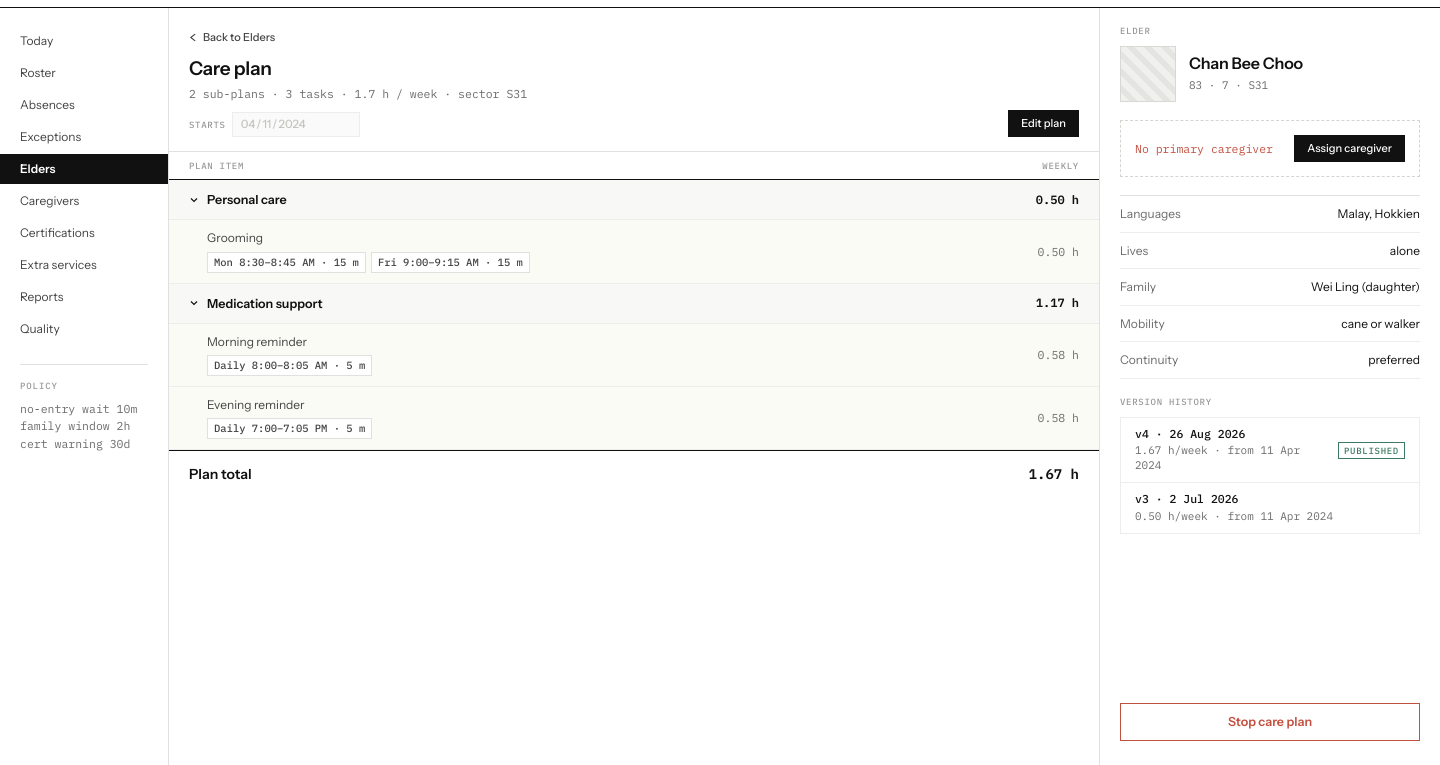
Test: holds publishing while a sub-plan or task is still being edited
Click the button "Edit plan" at (1044, 124), box [1008,110,1079,137]
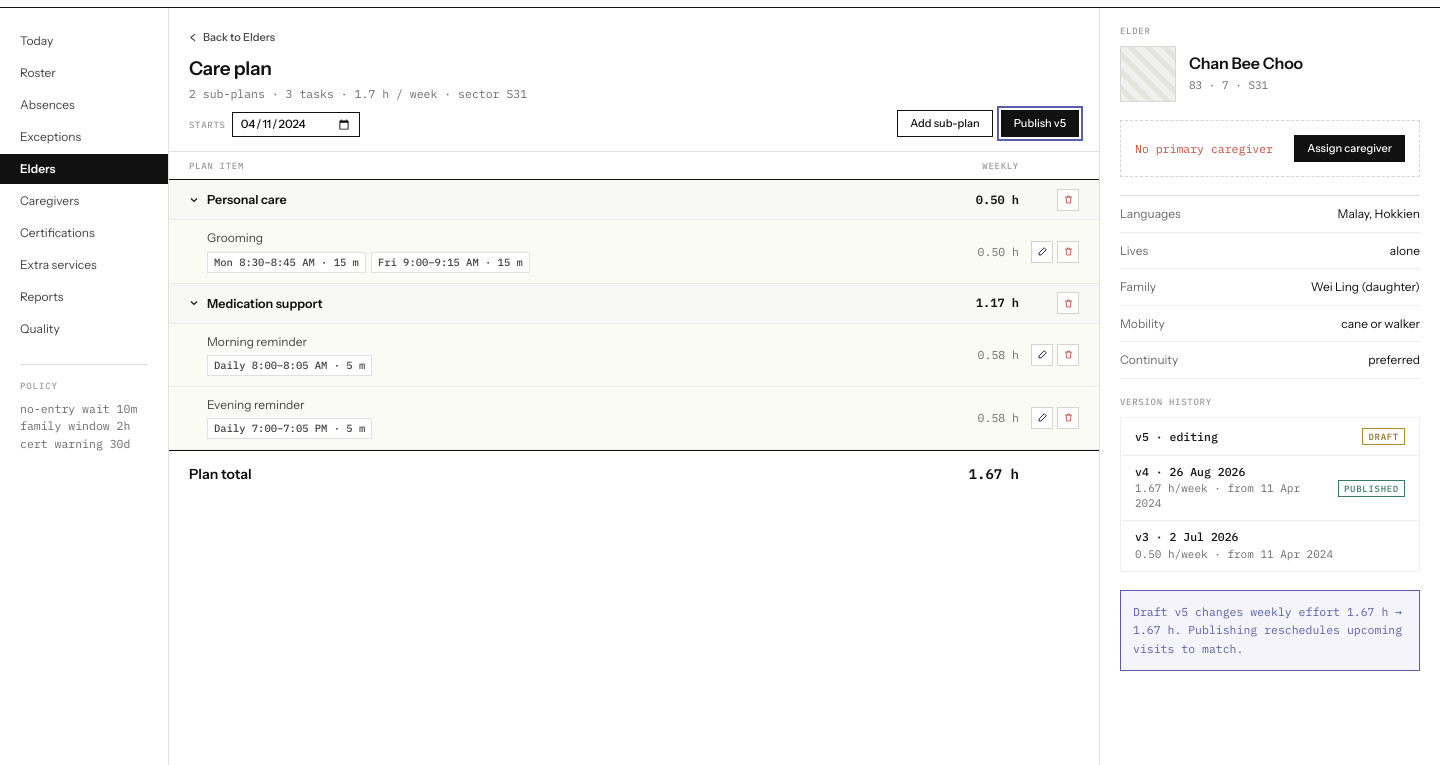
Expected: the button "Publish v5" is enabled, [1001,110,1079,137]
Click the button "Add sub-plan" at (945, 124), box [897,110,993,137]
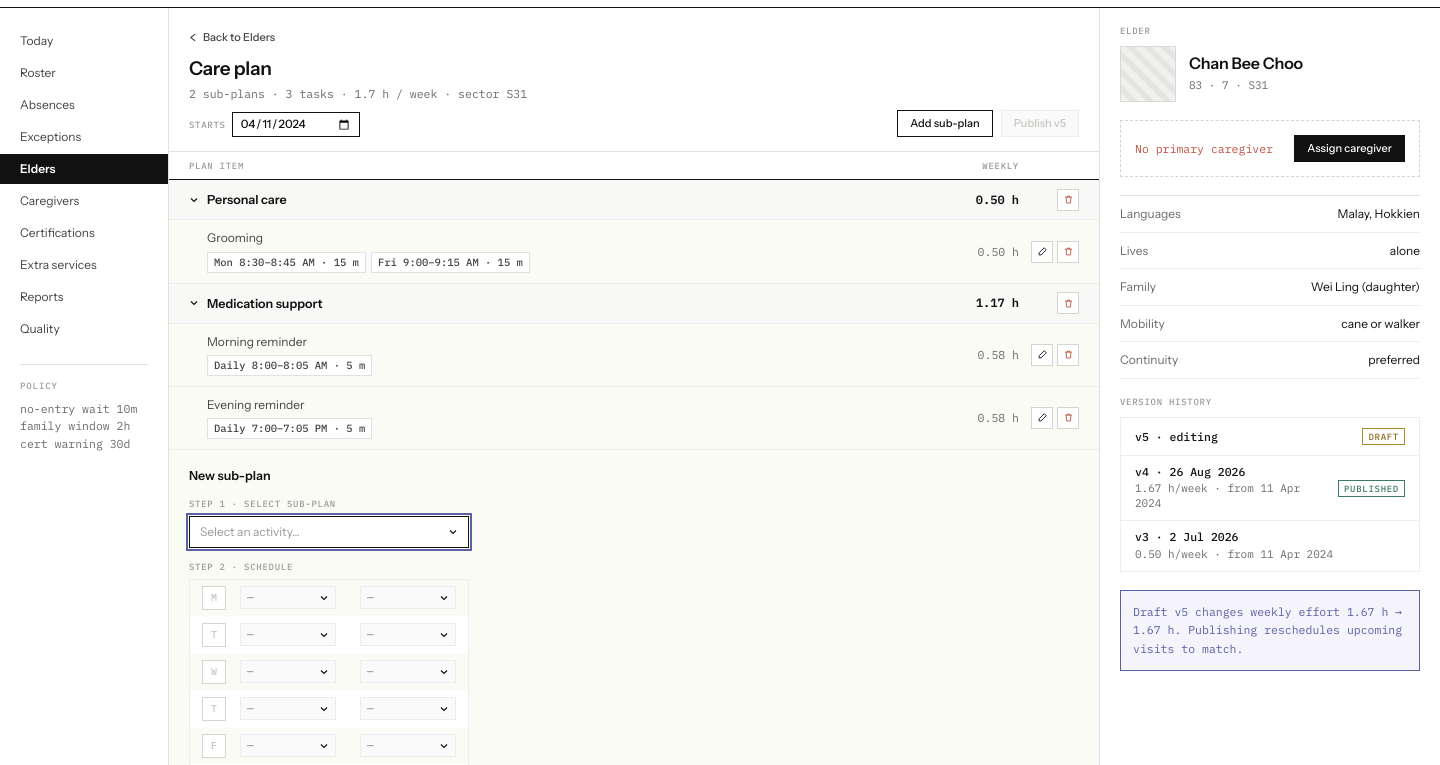
Click the button named "Tuesday" at (214, 635), box [202,623,226,647]
(page scrolled)
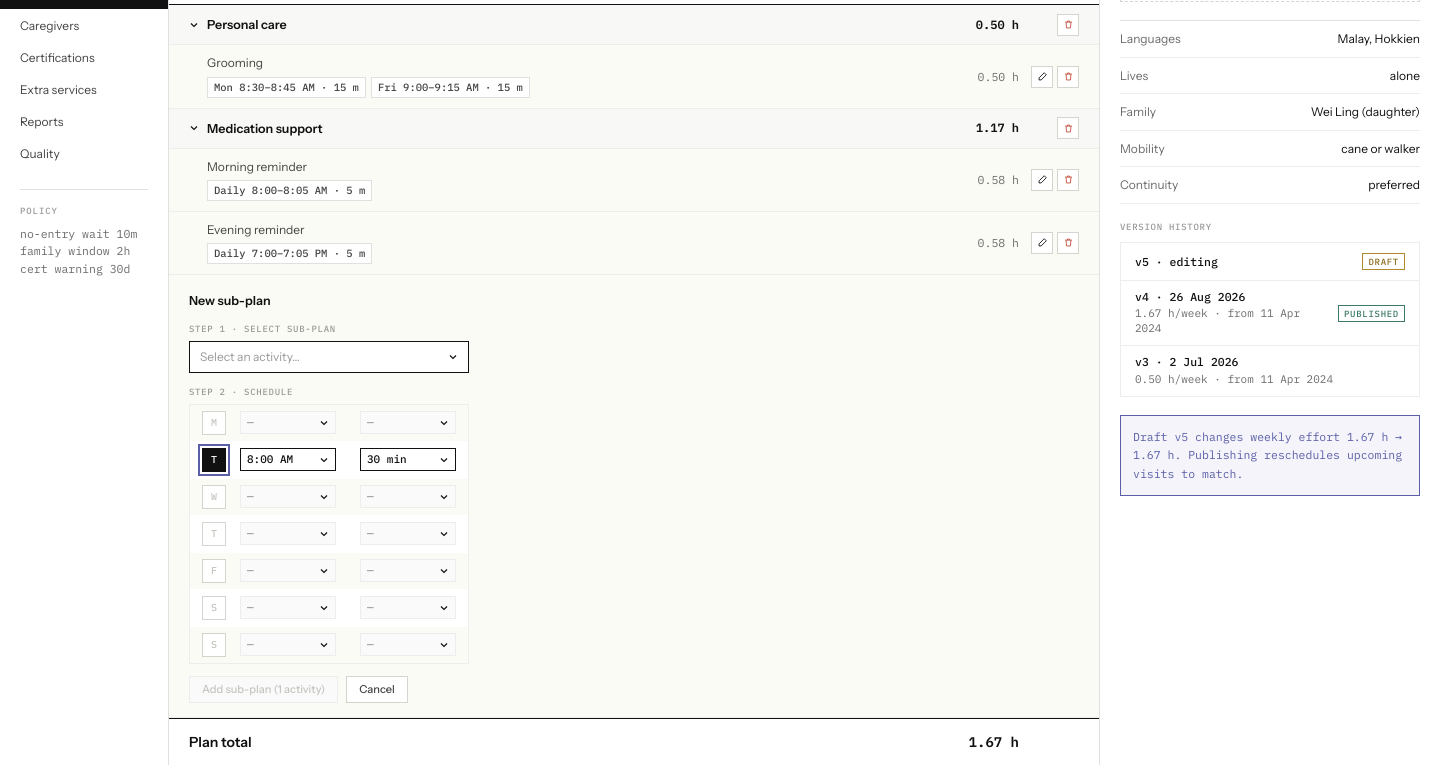
Click the button "Cancel" at (377, 689), box [346,676,408,703]
(page scrolled)
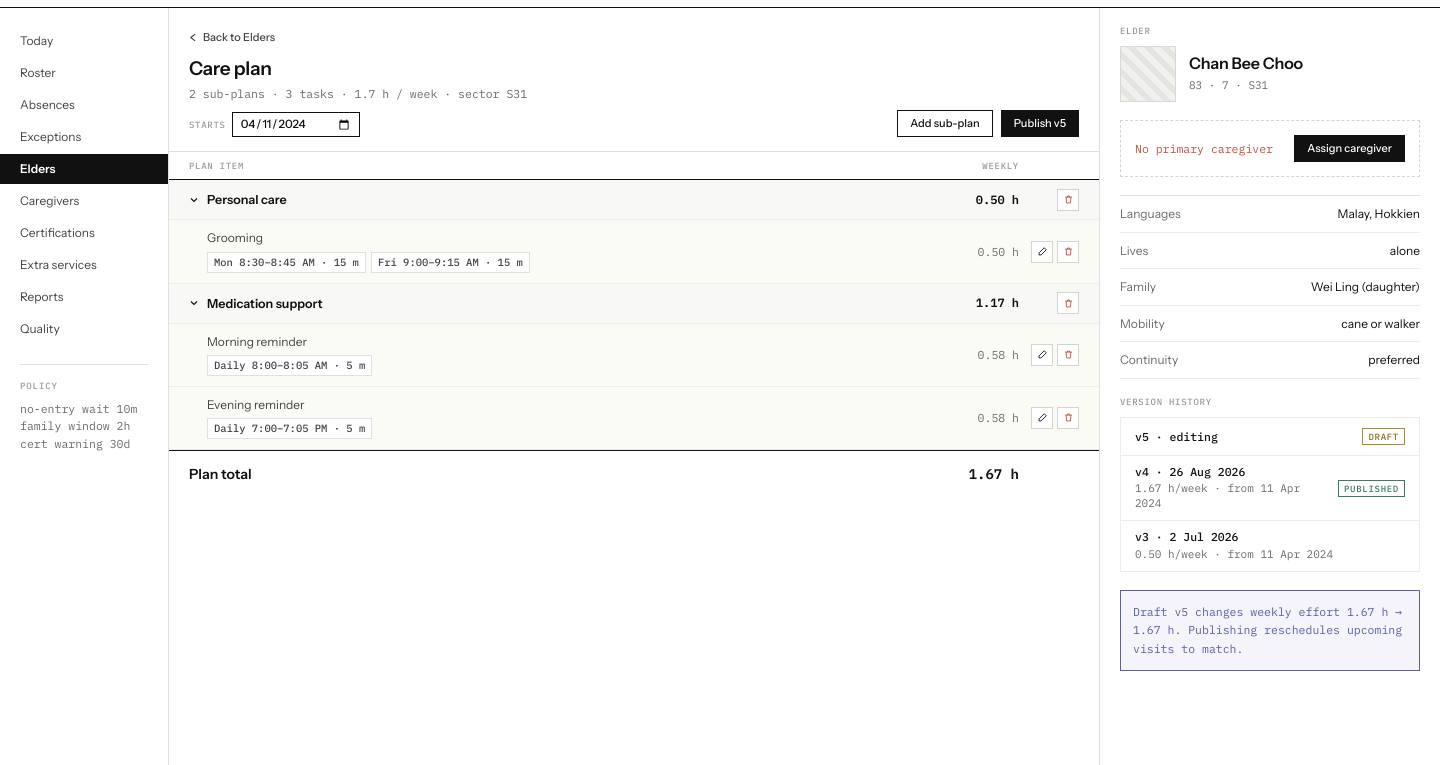
Now the button "Publish v5" is enabled, box [1001,110,1079,137]
Click the button named "Edit task" in the row of "Daily 8:00–8:05 AM · 5 m" at (1042, 355), box [1031,344,1053,366]
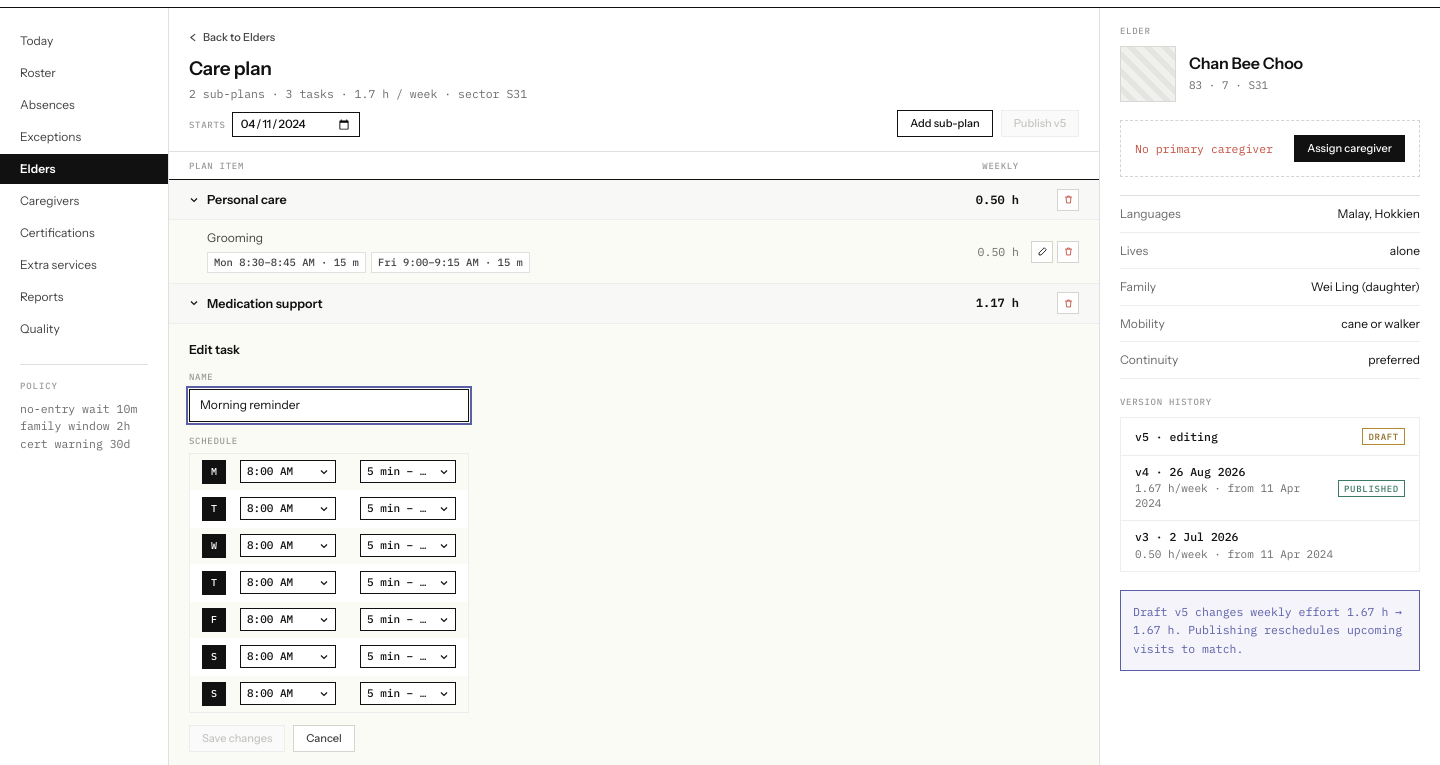
Now the button "Publish v5" is disabled, box [1001,110,1079,137]
